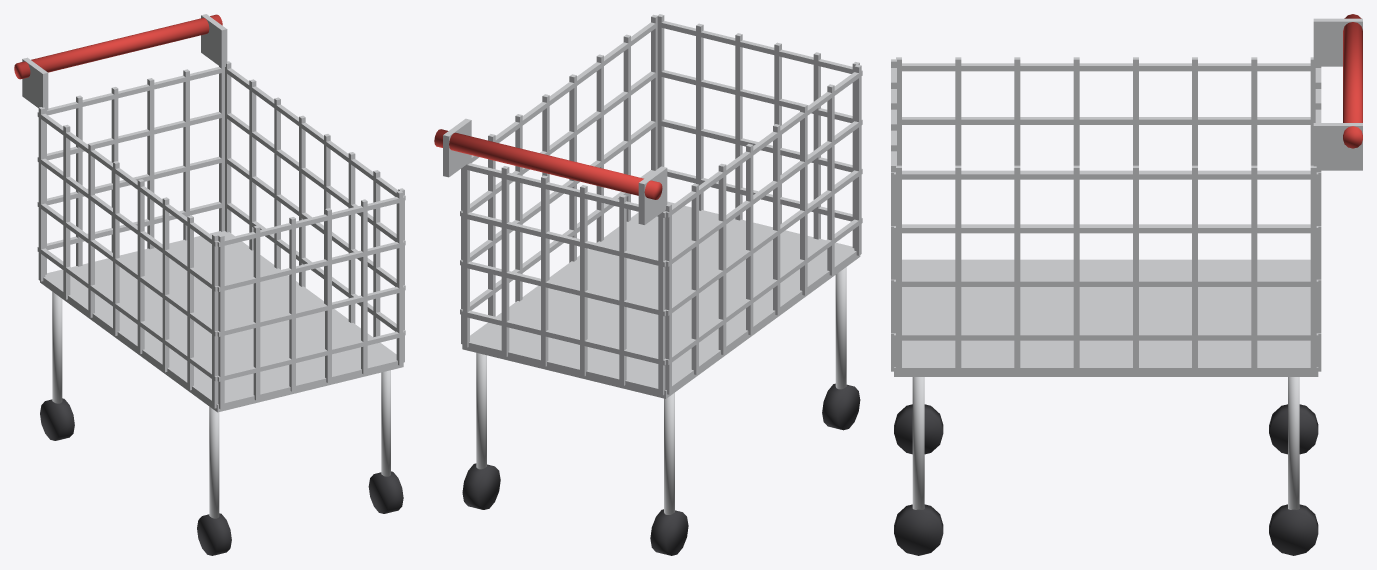
Rendered from shopping_cart.glb.
3 renders of one model, left to right at view 1: azimuth 30°, elevation 25°; view 2: azimuth 150°, elevation 25°; view 3: azimuth 270°, elevation 25°, orthographic. The views are drawn at different scales.
Visible parts, largest first — view 1: shopping_cart; view 2: shopping_cart; view 3: shopping_cart.
Boxes of the visible parts, left/top/right/bottom form: shopping_cart: left=14, top=14, right=405, bottom=555; shopping_cart: left=434, top=14, right=862, bottom=555; shopping_cart: left=891, top=14, right=1362, bottom=555.
Bounding box in the file's own units: 0.56 × 0.96 × 0.956.
